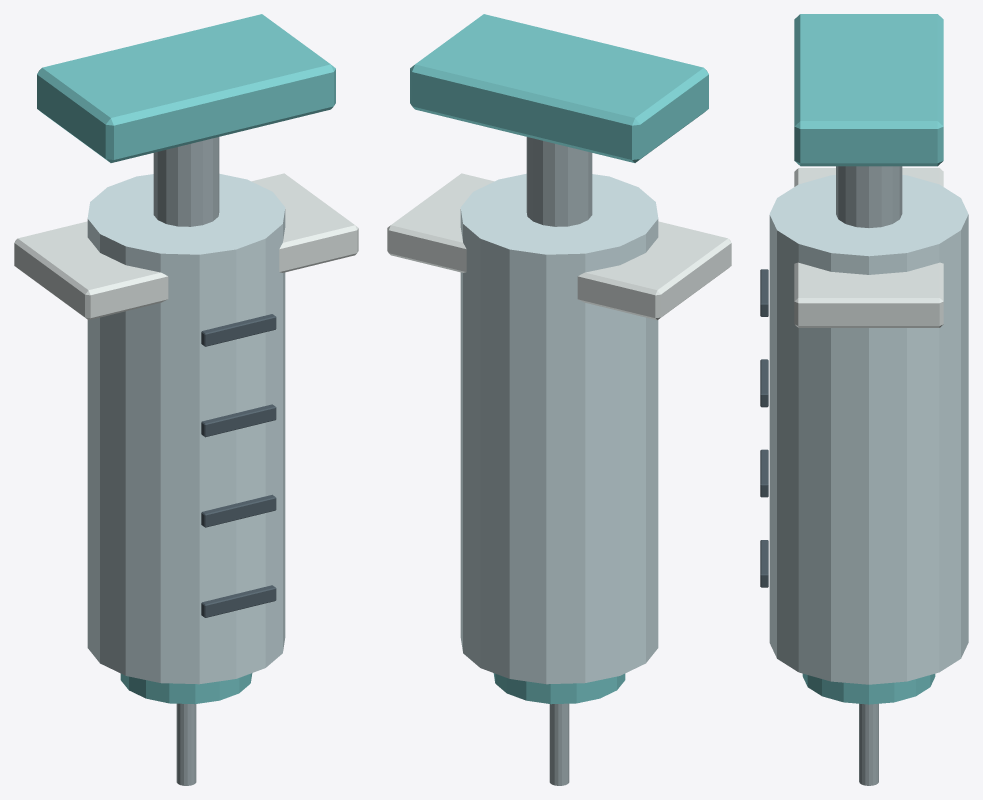
File: chem_syringe.glb
The picture shows the model from 3 angles, left to right: view 1: azimuth 30°, elevation 25°; view 2: azimuth 150°, elevation 25°; view 3: azimuth 270°, elevation 25°; orthographic projection.
Visible parts, largest first — view 1: Clear barrel, Thumb pad, Finger rest, Plunger, Needle seat, Needle, Dose mark.002, Dose mark.003, Dose mark, Dose mark.001; view 2: Clear barrel, Thumb pad, Finger rest, Plunger, Needle seat, Needle; view 3: Clear barrel, Thumb pad, Finger rest, Plunger, Needle seat, Needle, Dose mark.001, Dose mark.002, Dose mark, Dose mark.003.
Part boxes in pixels (left/top/right/bottom): Clear barrel: left=87, top=173, right=285, bottom=684; Thumb pad: left=37, top=14, right=335, bottom=162; Finger rest: left=14, top=173, right=358, bottom=320; Plunger: left=153, top=137, right=219, bottom=226; Needle seat: left=120, top=673, right=252, bottom=704; Needle: left=176, top=703, right=196, bottom=785; Dose mark.002: left=201, top=404, right=276, bottom=437; Dose mark.003: left=201, top=314, right=276, bottom=346; Dose mark: left=201, top=585, right=276, bottom=617; Dose mark.001: left=201, top=494, right=276, bottom=527; Clear barrel: left=460, top=173, right=658, bottom=684; Thumb pad: left=410, top=14, right=708, bottom=162; Finger rest: left=387, top=173, right=731, bottom=320; Plunger: left=526, top=137, right=592, bottom=226; Needle seat: left=493, top=673, right=625, bottom=704; Needle: left=549, top=703, right=569, bottom=785; Clear barrel: left=769, top=175, right=968, bottom=684; Thumb pad: left=794, top=14, right=943, bottom=166; Finger rest: left=794, top=168, right=943, bottom=327; Plunger: left=836, top=166, right=902, bottom=227; Needle seat: left=802, top=673, right=935, bottom=704; Needle: left=859, top=703, right=878, bottom=785; Dose mark.001: left=760, top=449, right=768, bottom=497; Dose mark.002: left=760, top=359, right=768, bottom=407; Dose mark: left=760, top=540, right=768, bottom=587; Dose mark.003: left=760, top=269, right=768, bottom=316.
Bounding box in the file's own units: 0.038 × 0.095 × 0.0251.
